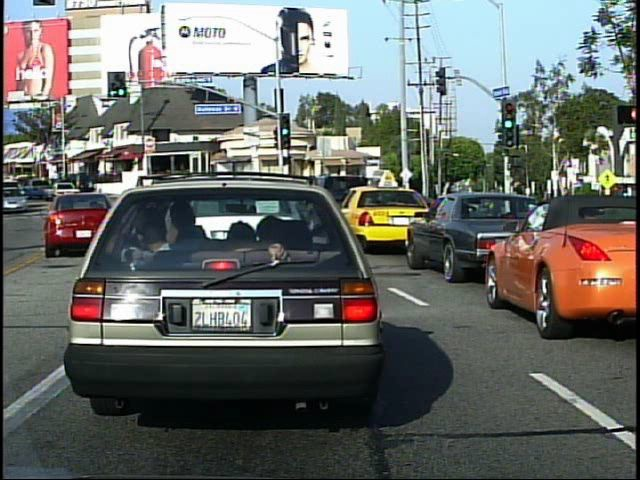person: (483, 183, 506, 228)
